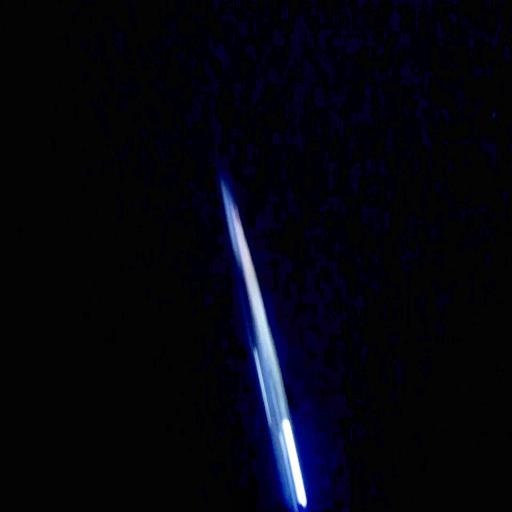object-detection-project: (221, 179, 307, 512)
